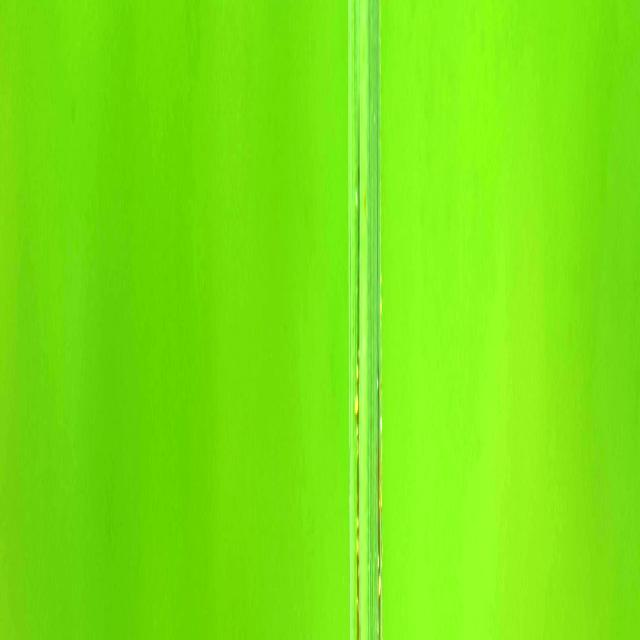BLS: (355, 131, 360, 640), (377, 305, 381, 640)
